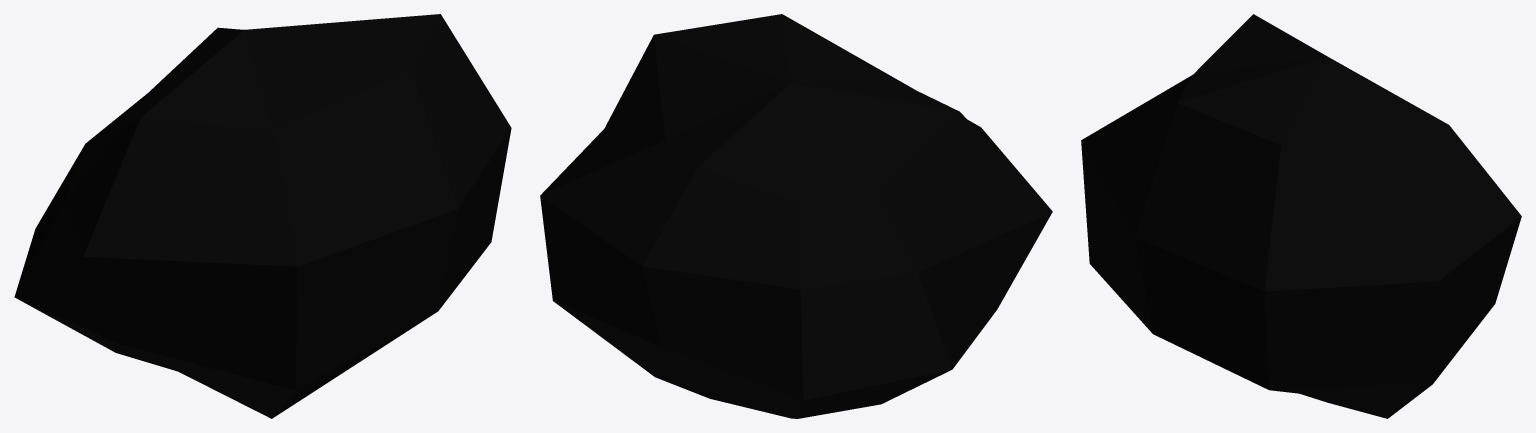
The model's file is SM_boulder.fbx.
3 renders of one model, left to right at view 1: azimuth 30°, elevation 25°; view 2: azimuth 150°, elevation 25°; view 3: azimuth 270°, elevation 25°, orthographic. The views are drawn at different scales.
Visible parts, largest first — view 1: boulder; view 2: boulder; view 3: boulder.
Boxes of the visible parts, <box> form: boulder: <box>14,14,511,418</box>; boulder: <box>540,14,1052,418</box>; boulder: <box>1081,14,1521,418</box>.
Size of the model in its own units: 1.23 by 0.9365 by 1.08.
